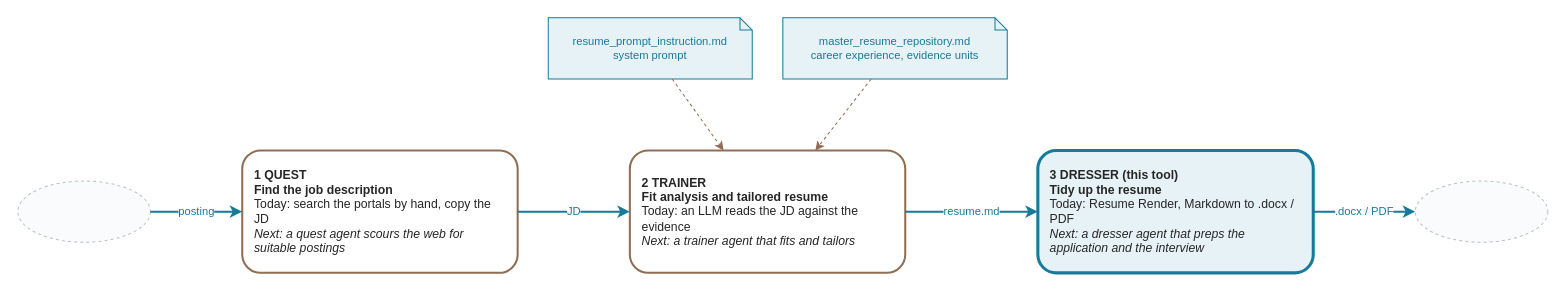
The diagram is 1566 pixels wide and 292 high, and some of its shapes have lost their labels. The shapes that lost their labels are listed below. From the top down, each one's centre as x and y in pixels, then its label:
the point at 83,211: Job portals postings
the point at 1481,211: Apply then interview
